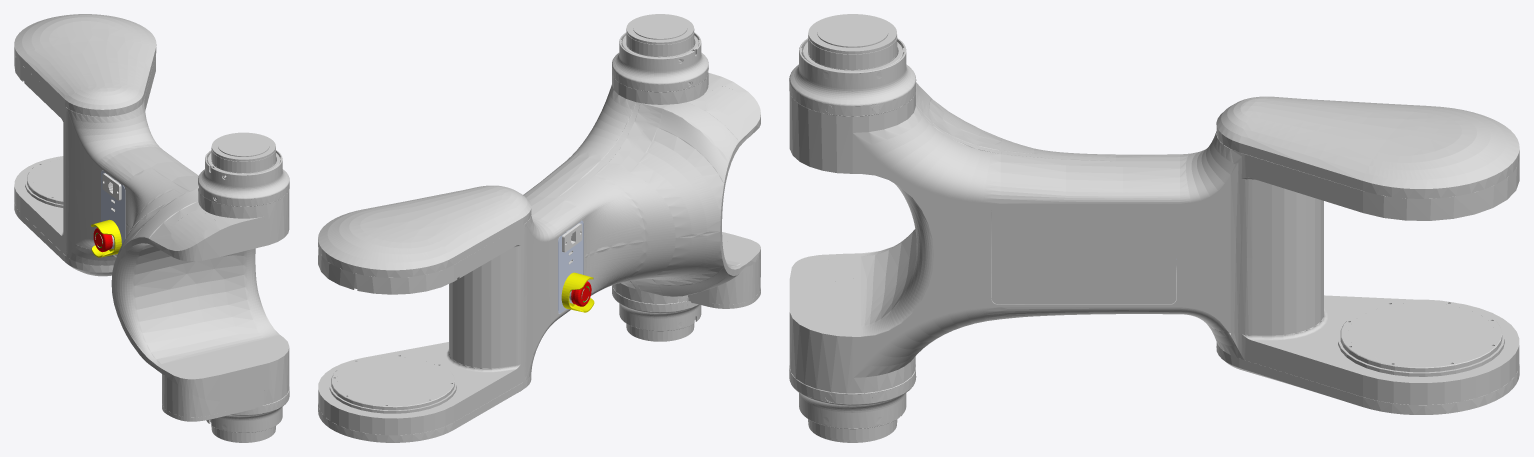
File: vega_1p_torso_l3_visuals_torso_l3_mesh.obj
The picture shows the model from 3 angles, left to right: view 1: azimuth 30°, elevation 25°; view 2: azimuth 150°, elevation 25°; view 3: azimuth 270°, elevation 25°; orthographic projection. The views are drawn at different scales.
Bounding box in the file's own units: 0.2542 × 0.3403 × 0.572.
